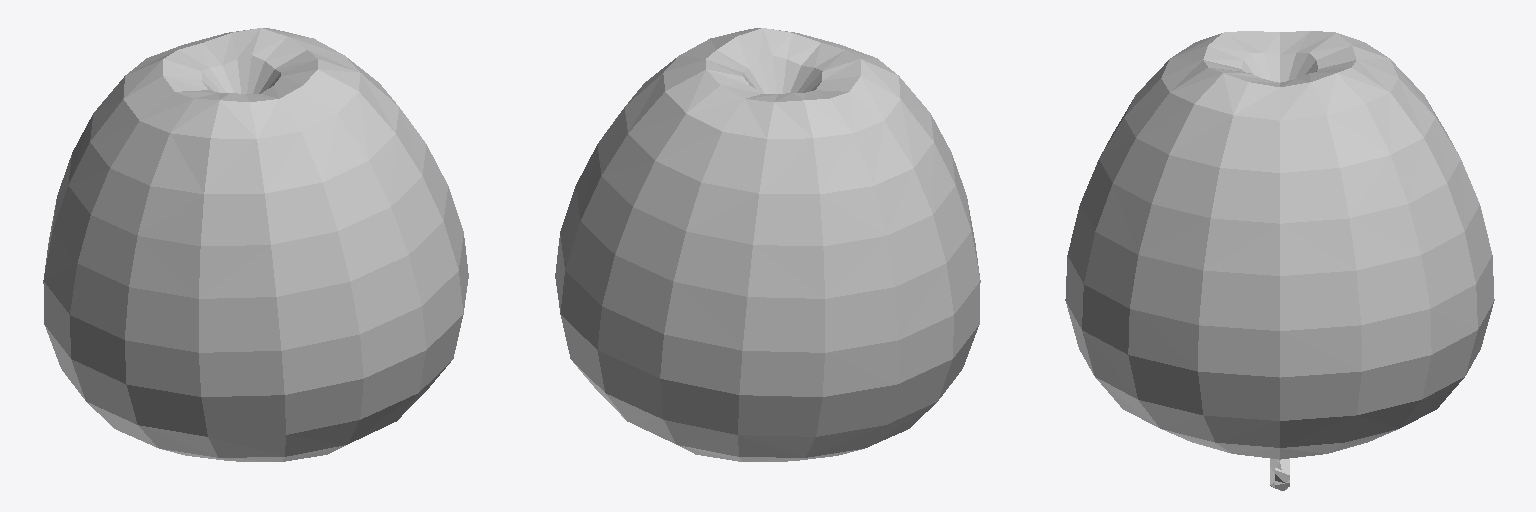
Rendered from apple.obj.
3 views of the same model, side by side, from view 1: azimuth 30°, elevation 25°; view 2: azimuth 150°, elevation 25°; view 3: azimuth 270°, elevation 25° (orthographic).
Visible parts, largest first — view 1: obj_0; view 2: obj_0; view 3: obj_0.
Part boxes in pixels (x1,y1,x2,y2): obj_0: (43, 28, 468, 461); obj_0: (555, 28, 980, 461); obj_0: (1065, 31, 1494, 490).
Bounding box in the file's own units: 6.03 × 6.16 × 6.01.